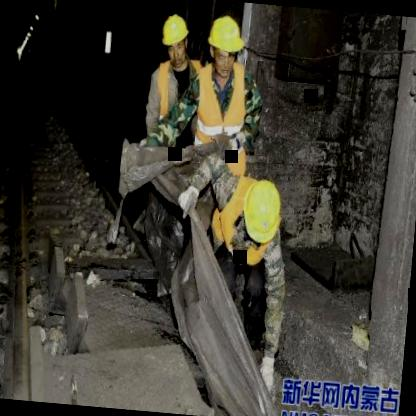helmet: (237, 176, 285, 255), (201, 12, 248, 78), (157, 9, 193, 66)
